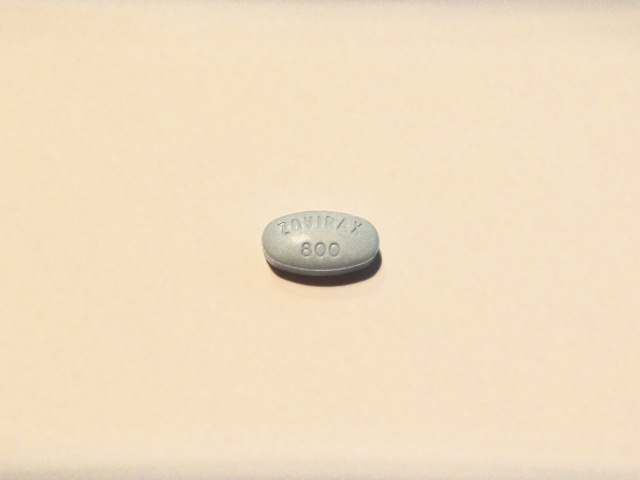0: (327, 240, 342, 259), (313, 241, 327, 258)
8: (300, 241, 312, 258)
A: (336, 217, 351, 232)
I: (316, 215, 322, 230)
O: (290, 218, 302, 230)
R: (324, 215, 336, 231)
V: (303, 215, 313, 230)
X: (350, 219, 363, 236)
Z: (276, 221, 291, 235)
